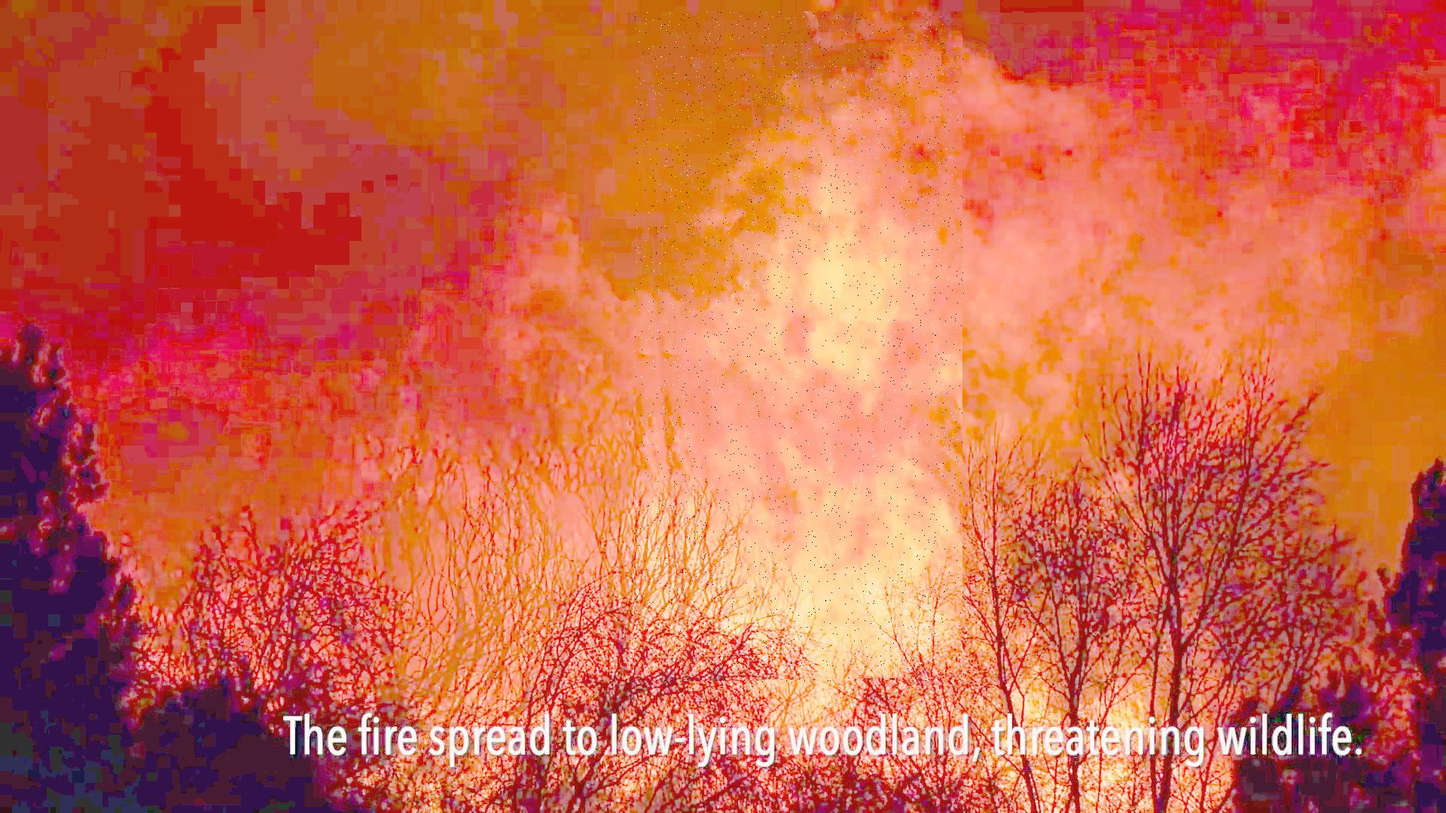fire: (635, 12, 965, 683)
